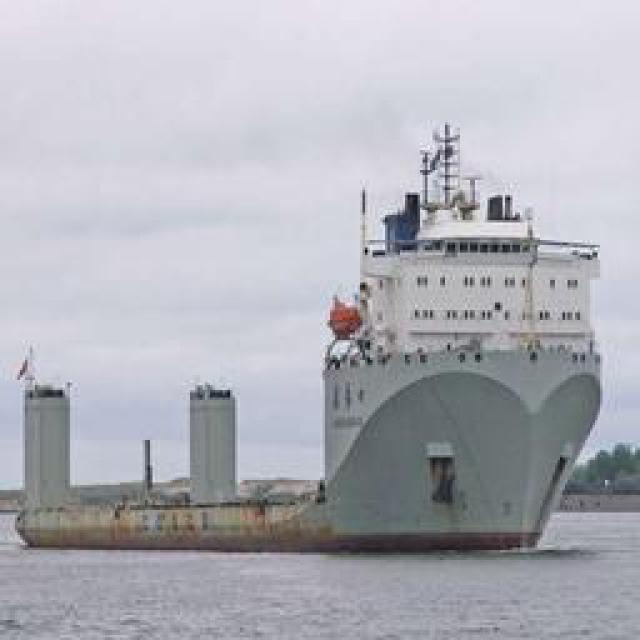Ship: (284, 126, 599, 549)
